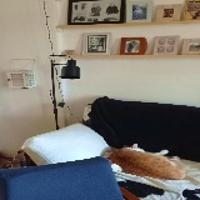asleep: (110, 142, 186, 180)
